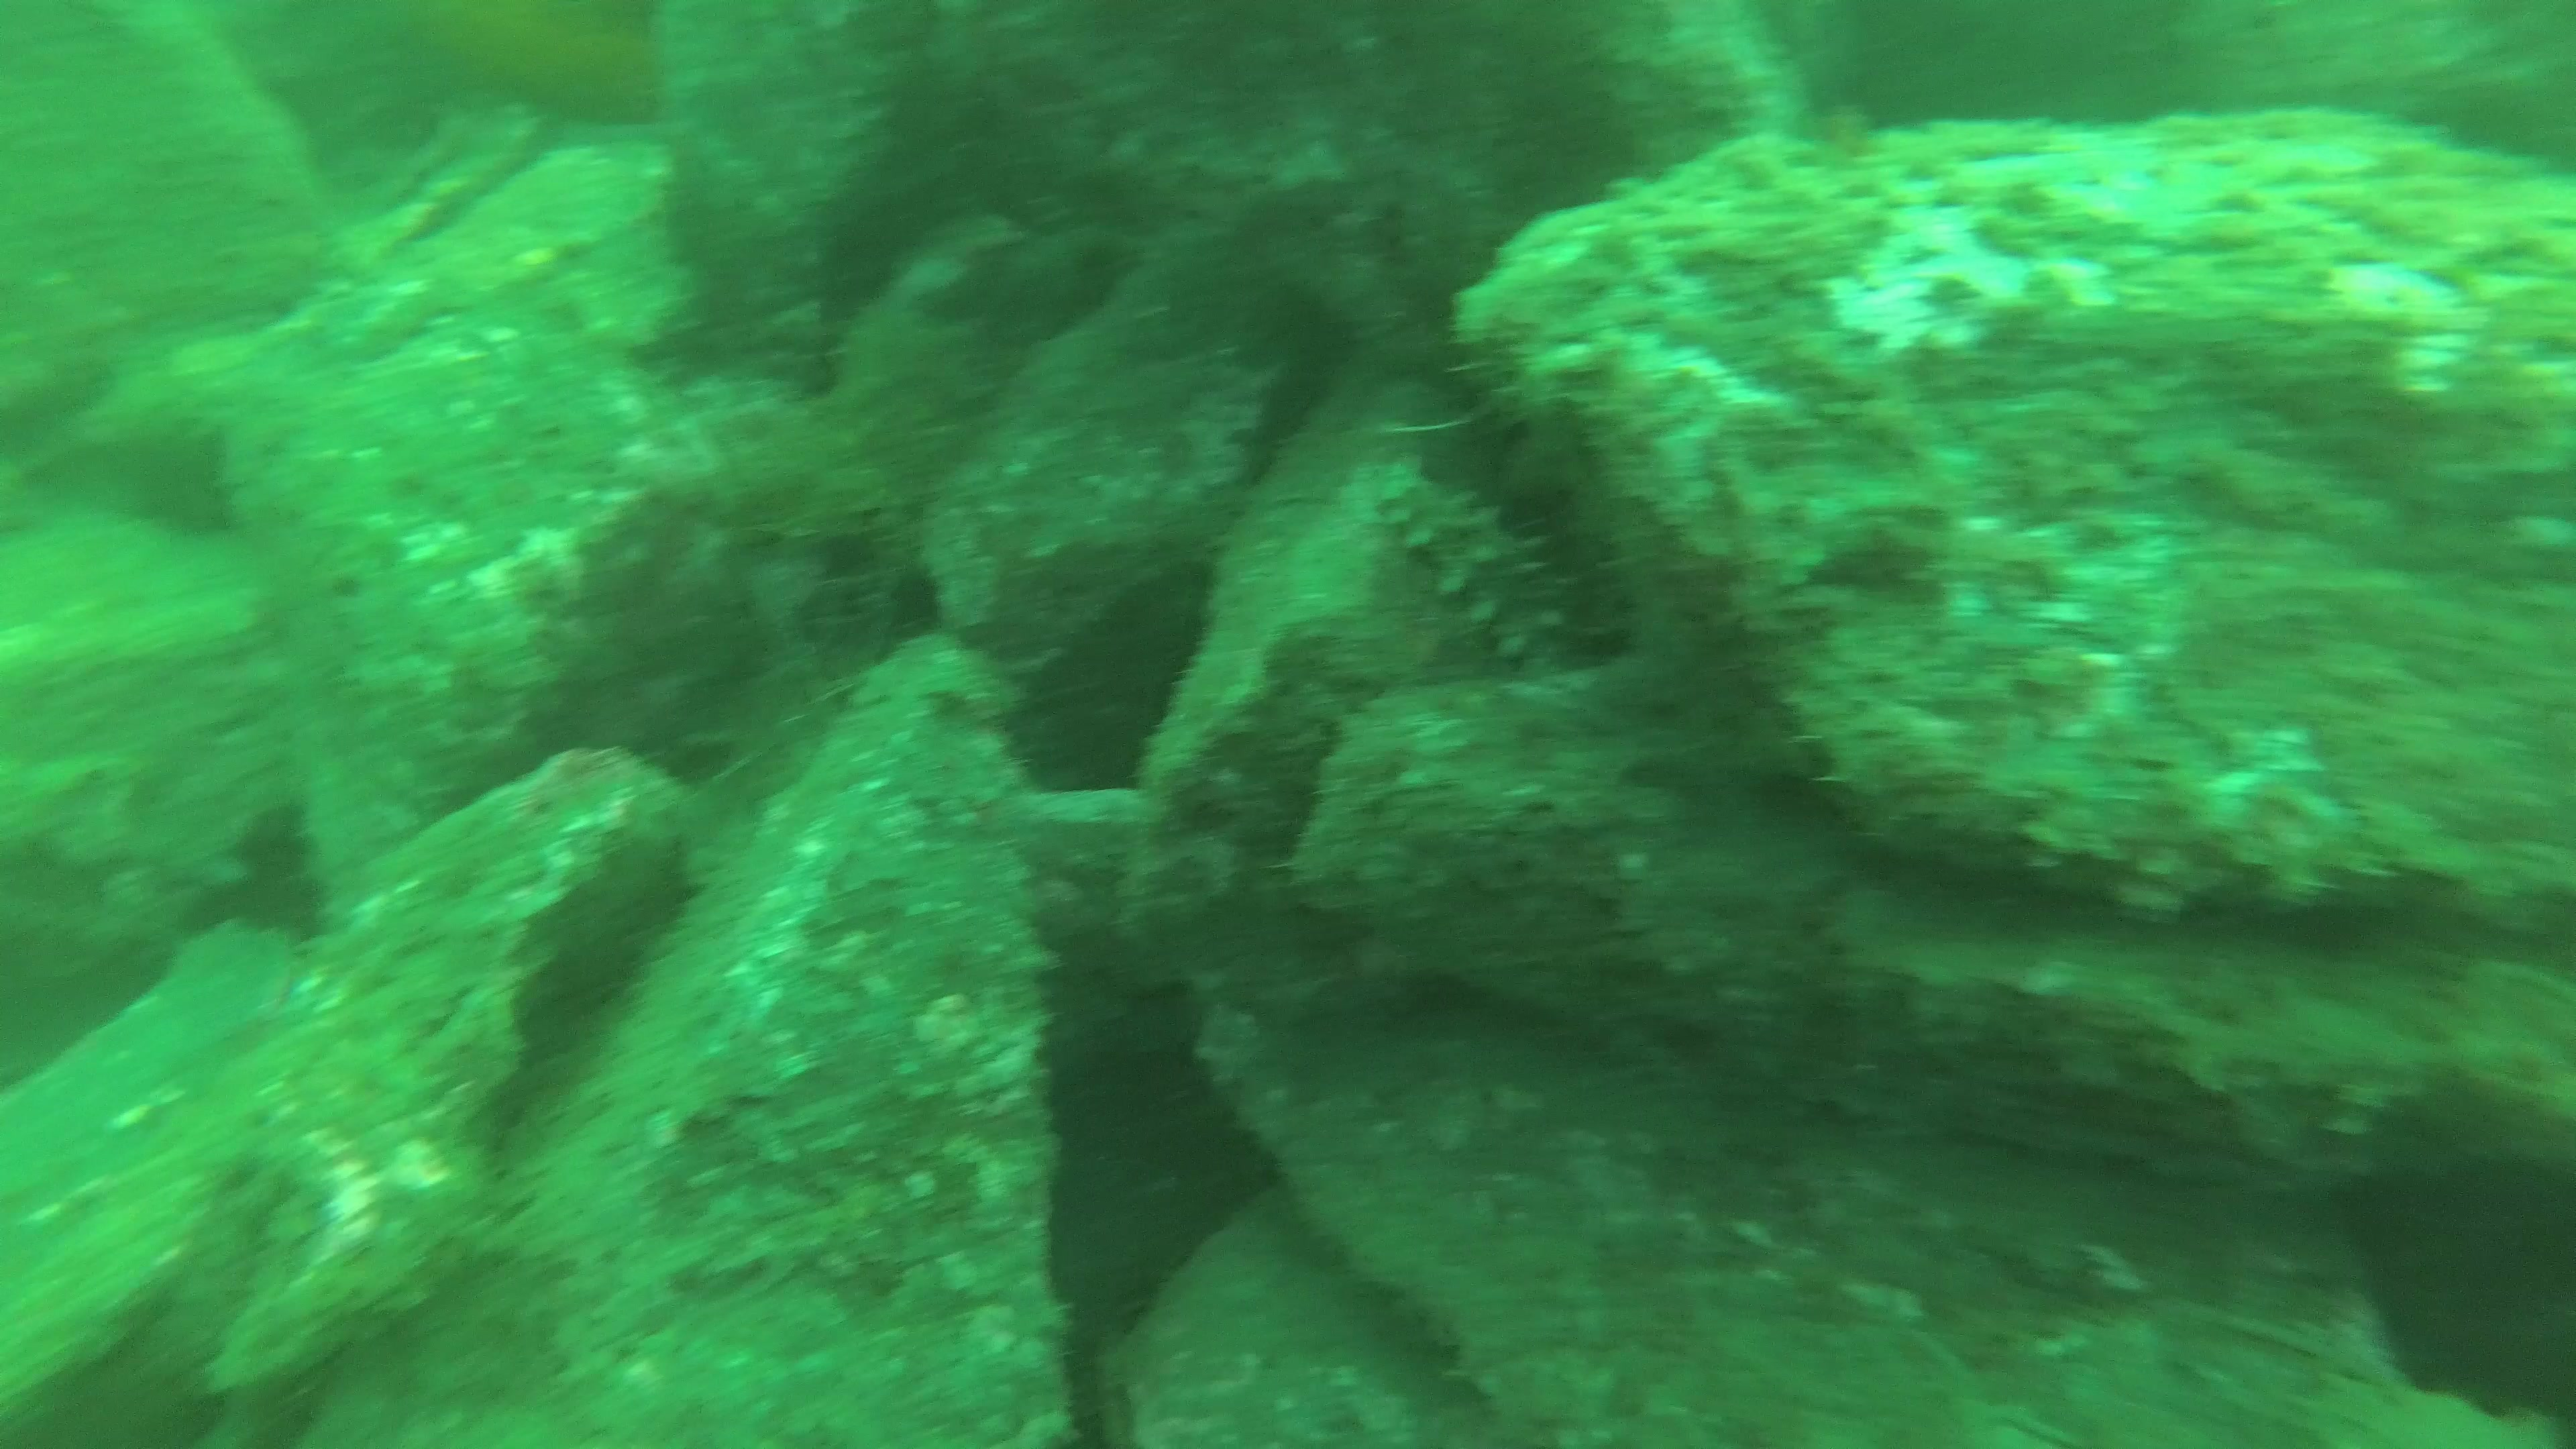holothurian: (1375, 467, 1592, 671)
